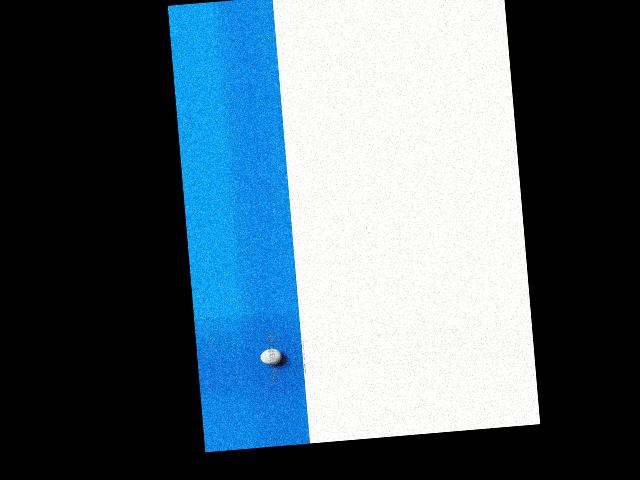egg: (259, 348, 282, 365)
